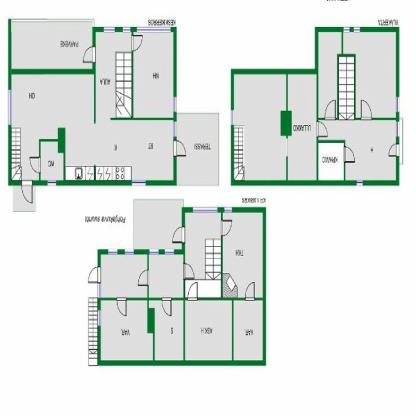door: (170, 222, 186, 246), (172, 140, 189, 160), (21, 181, 34, 207), (87, 266, 103, 287), (342, 146, 358, 166), (360, 100, 374, 122), (81, 46, 97, 65), (186, 277, 198, 301), (137, 270, 150, 290), (117, 298, 128, 321), (130, 34, 143, 53), (28, 156, 42, 173), (388, 143, 402, 160), (316, 121, 330, 138), (162, 296, 172, 318), (324, 100, 334, 122), (245, 282, 256, 301), (182, 263, 194, 280), (221, 221, 233, 238)
window: (137, 26, 170, 32), (193, 206, 217, 212), (148, 248, 159, 258), (8, 89, 11, 125), (132, 179, 146, 186), (104, 26, 115, 34), (172, 122, 177, 139), (164, 248, 174, 256), (396, 120, 400, 136), (173, 96, 177, 112), (97, 311, 101, 327), (224, 206, 232, 214), (125, 247, 134, 254), (396, 98, 400, 112), (96, 283, 100, 296), (108, 249, 118, 254), (47, 179, 55, 185), (231, 110, 234, 124), (357, 179, 363, 186), (122, 27, 130, 31), (344, 26, 349, 32), (353, 26, 359, 31)
zone: (11, 75, 173, 179), (234, 74, 287, 180), (318, 120, 396, 182), (344, 33, 394, 118), (11, 21, 92, 67), (223, 212, 263, 297), (134, 32, 173, 118), (95, 32, 131, 116), (177, 114, 219, 186), (102, 301, 152, 361), (288, 74, 316, 181), (186, 212, 220, 298), (184, 301, 232, 361), (133, 200, 182, 249), (149, 298, 183, 362), (100, 255, 148, 297), (318, 33, 341, 117), (233, 300, 262, 362), (148, 255, 184, 298), (39, 140, 63, 178), (319, 143, 343, 180)
